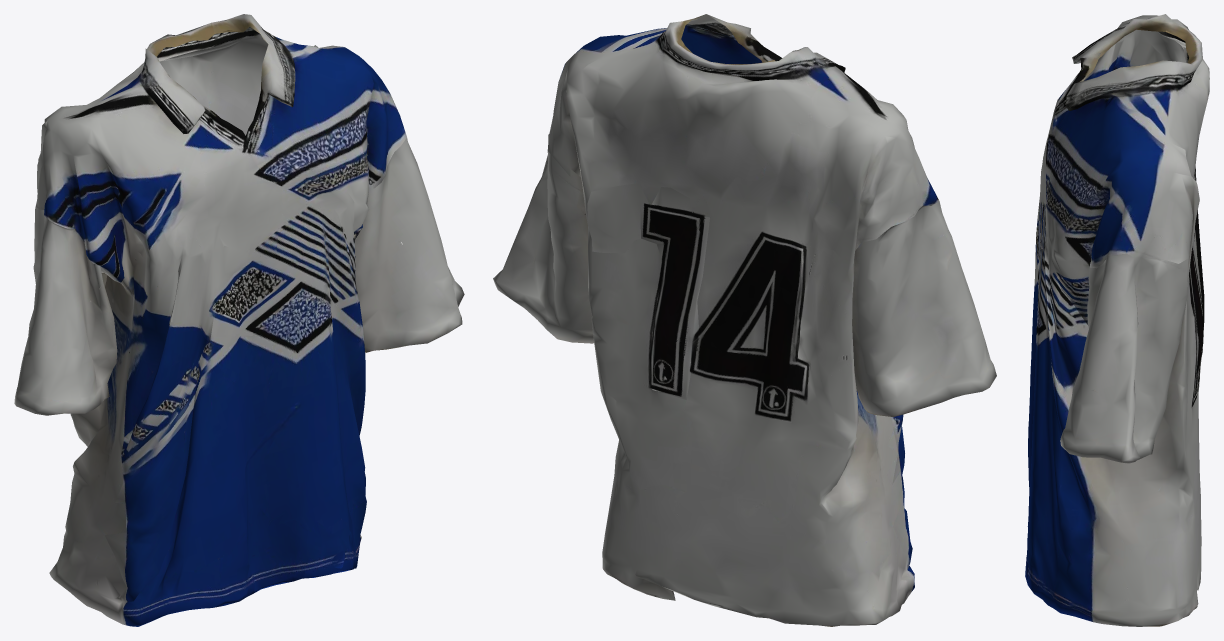
3 renders of one model, left to right at view 1: azimuth 30°, elevation 25°; view 2: azimuth 150°, elevation 25°; view 3: azimuth 270°, elevation 25°, orthographic. The views are drawn at different scales.
Parts seen in each view (by area): view 1: tripo_part_0, tripo_part_3, tripo_part_2, tripo_part_7, tripo_part_6, tripo_part_11, tripo_part_13; view 2: tripo_part_0, tripo_part_2, tripo_part_3, tripo_part_8, tripo_part_6, tripo_part_12, tripo_part_7; view 3: tripo_part_0, tripo_part_3, tripo_part_6, tripo_part_11, tripo_part_8, tripo_part_10.
Boxes of the visible parts, left/top/right/bottom form: tripo_part_0: left=36, top=33, right=406, bottom=626; tripo_part_3: left=354, top=138, right=464, bottom=352; tripo_part_2: left=14, top=206, right=117, bottom=415; tripo_part_7: left=105, top=322, right=199, bottom=601; tripo_part_6: left=139, top=14, right=295, bottom=147; tripo_part_11: left=257, top=101, right=368, bottom=183; tripo_part_13: left=210, top=263, right=263, bottom=348; tripo_part_0: left=547, top=26, right=939, bottom=626; tripo_part_2: left=852, top=201, right=996, bottom=416; tripo_part_3: left=493, top=134, right=594, bottom=343; tripo_part_8: left=640, top=187, right=709, bottom=399; tripo_part_6: left=657, top=14, right=845, bottom=80; tripo_part_12: left=587, top=183, right=649, bottom=253; tripo_part_7: left=891, top=414, right=912, bottom=569; tripo_part_0: left=1025, top=15, right=1209, bottom=626; tripo_part_3: left=1060, top=253, right=1188, bottom=463; tripo_part_6: left=1056, top=14, right=1202, bottom=110; tripo_part_11: left=1046, top=130, right=1102, bottom=230; tripo_part_8: left=1188, top=241, right=1203, bottom=406; tripo_part_10: left=1057, top=275, right=1089, bottom=325.
Size of the model in its own units: 0.7151 by 0.7971 by 0.2495.
Materials: 10 (10 with a texture image).
